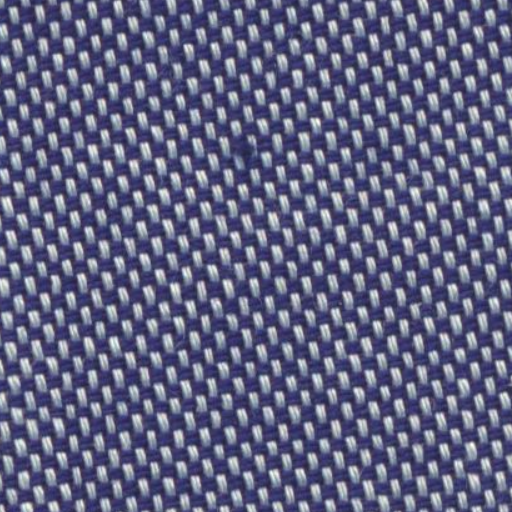MianQiu: (207, 121, 280, 172)
